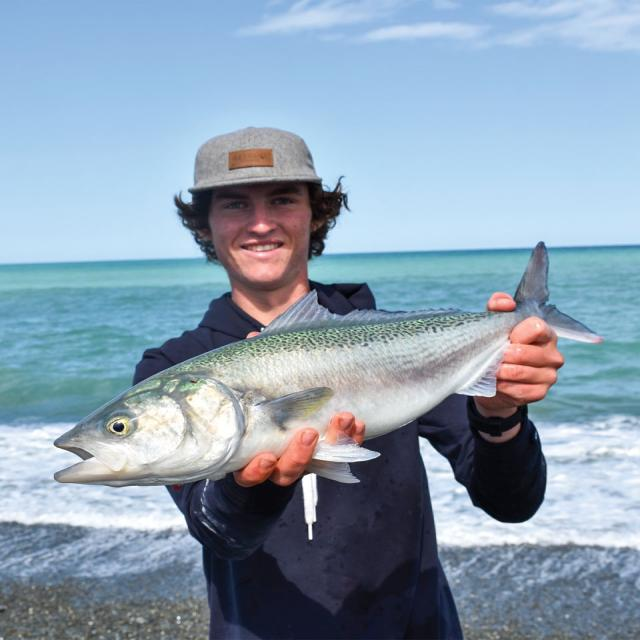Australian Salmon: (43, 237, 608, 504)
